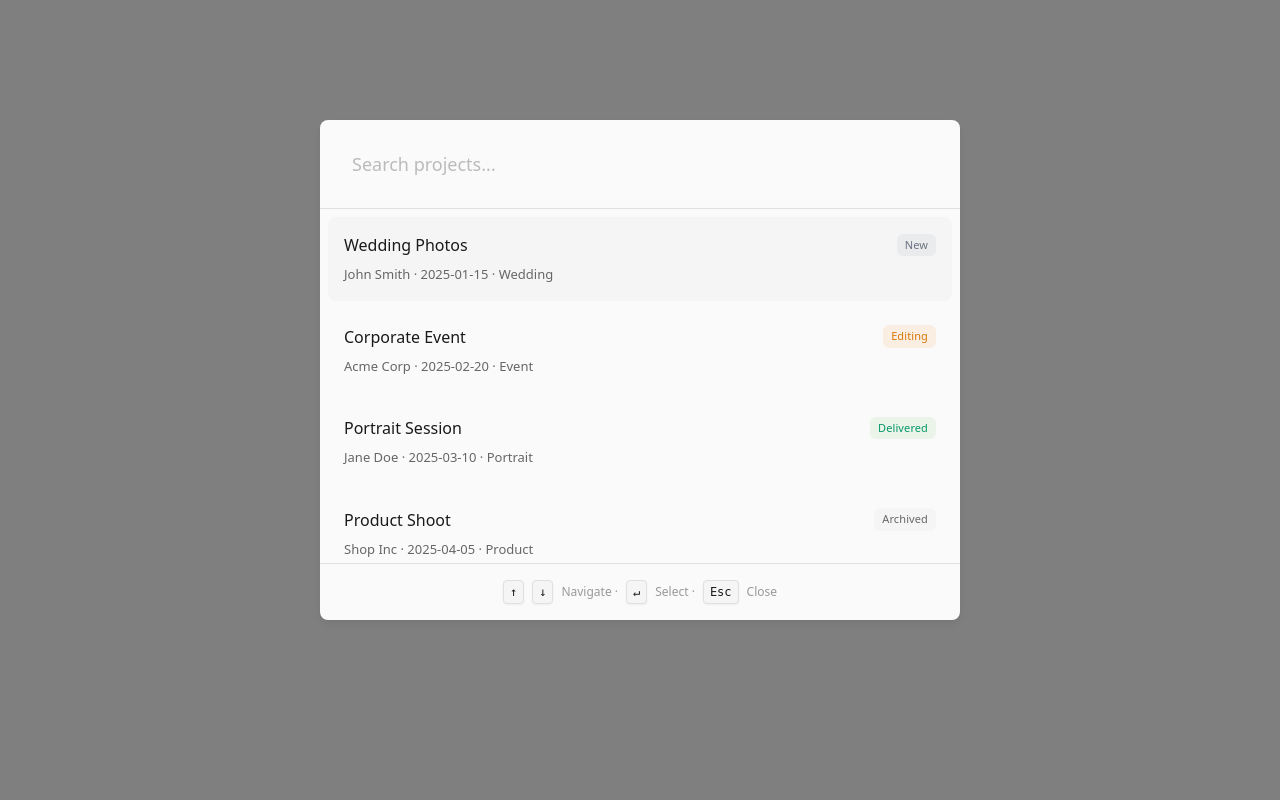
Test: commandPalette › filters projects by shoot type
Expected: the text "Portrait Session" is shown, 344,416 -> 462,440
Type "portrait" into the field with placeholder "Search projects...".
click(640, 164); type("portrait")  # box 336,136 -> 944,192
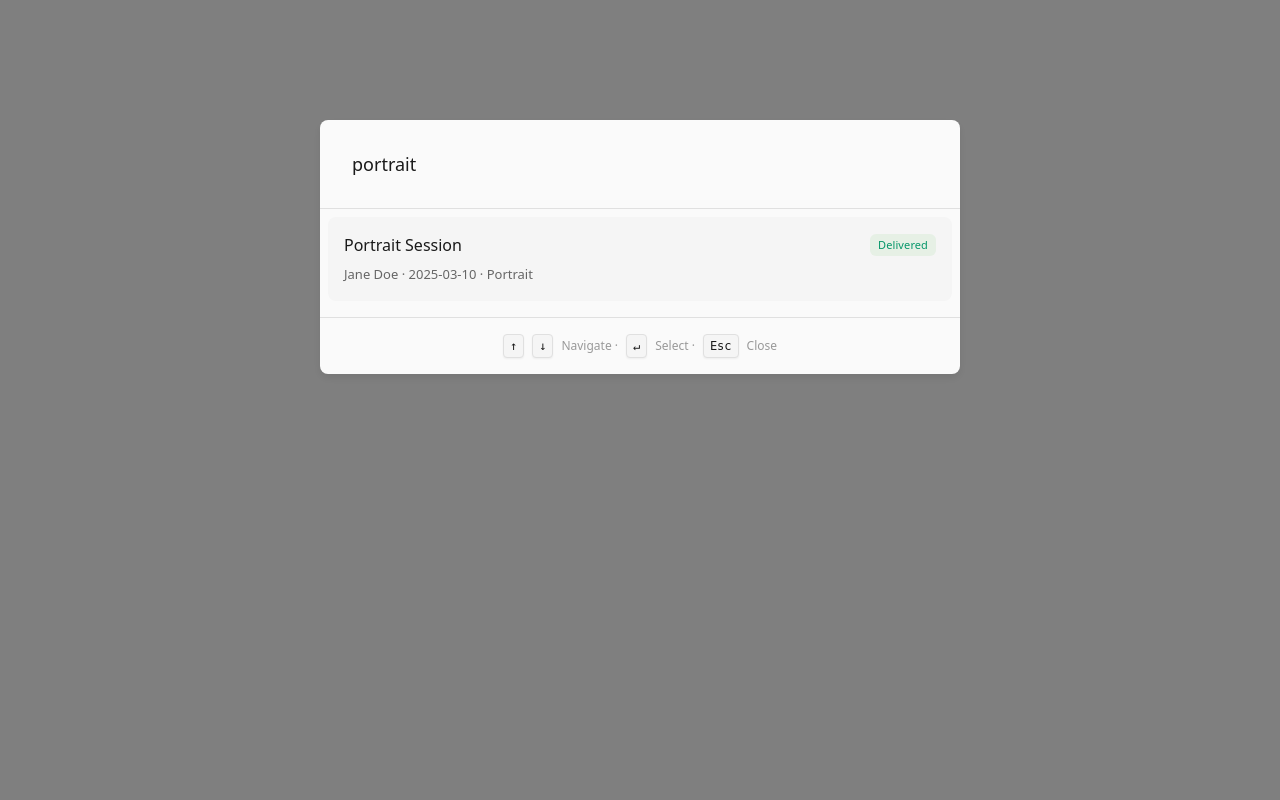
Expected: the text "Portrait Session" is shown, 344,233 -> 462,257
Now the button "Wedding Photos" is gone
